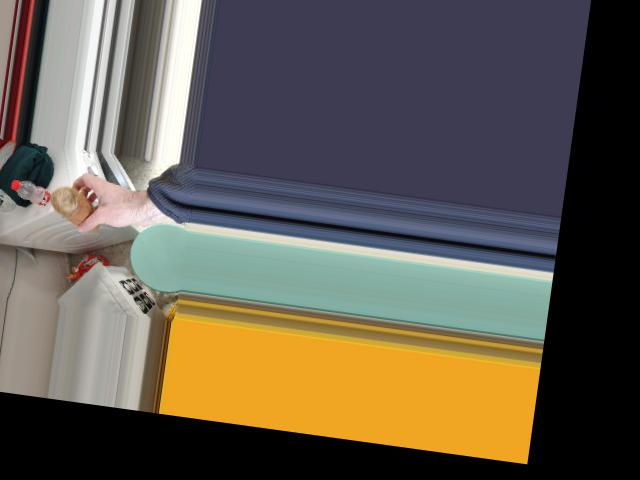sweet_potato: (49, 183, 110, 237)
